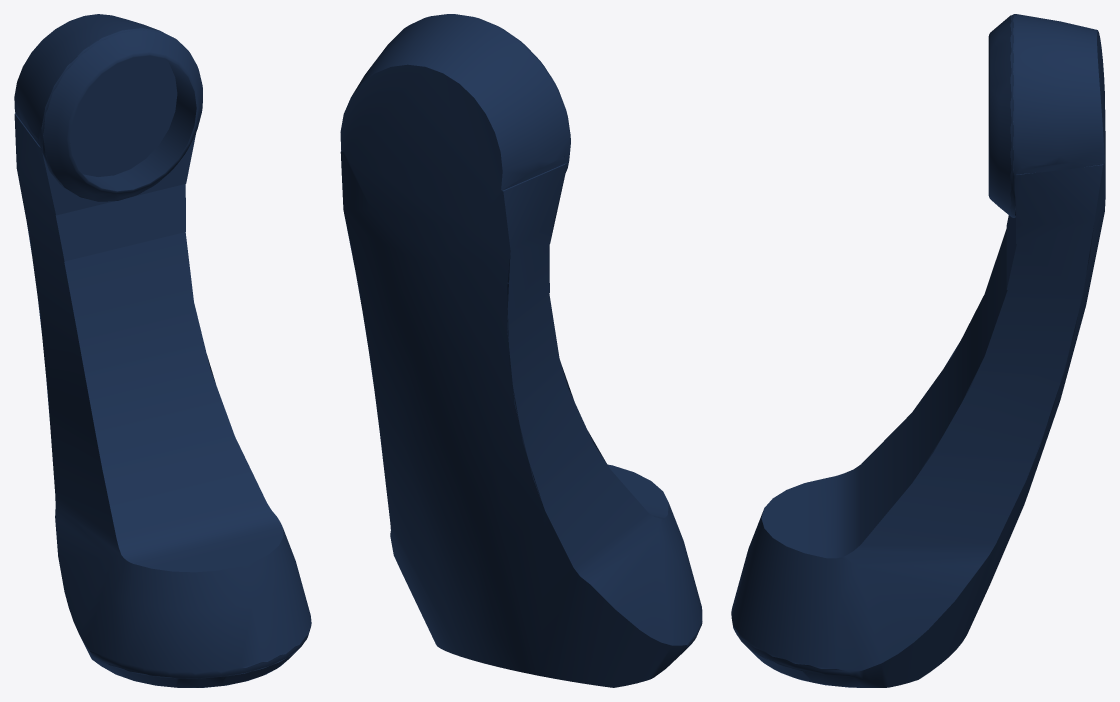
The model's file is LWA46_Link4.dae.
The picture shows the model from 3 angles, left to right: view 1: azimuth 30°, elevation 25°; view 2: azimuth 150°, elevation 25°; view 3: azimuth 270°, elevation 25°; orthographic projection. The views are drawn at different scales.
Parts seen in each view (by area): view 1: Link4; view 2: Link4; view 3: Link4.
Boxes of the visible parts, left/top/right/bottom form: Link4: left=14, top=14, right=311, bottom=687; Link4: left=340, top=14, right=702, bottom=687; Link4: left=731, top=14, right=1105, bottom=687.
Bounding box in the file's own units: 0.1092 × 0.1549 × 0.2819.
